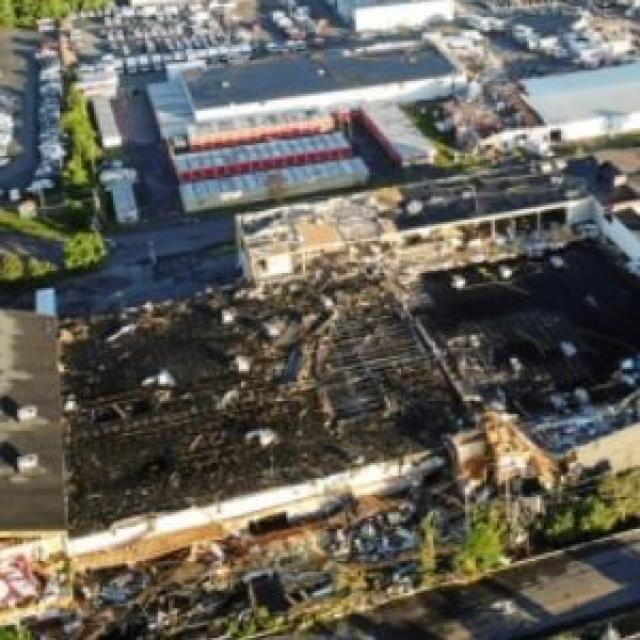collapsed_building: (0, 215, 638, 576)
